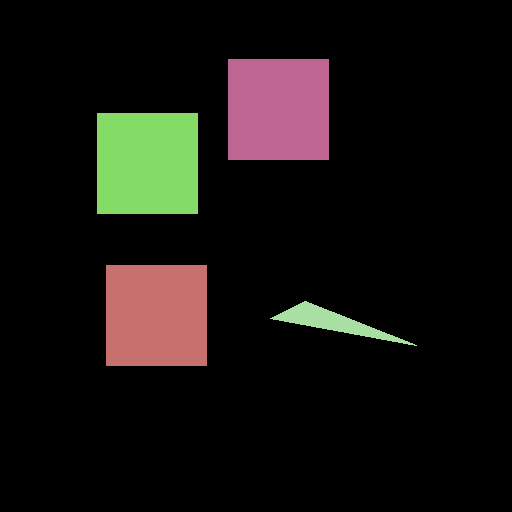square: (106, 265, 206, 365), (97, 113, 197, 213), (228, 59, 328, 159)
triangle: (270, 301, 416, 345)
